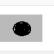correct: (10, 17, 33, 39)
